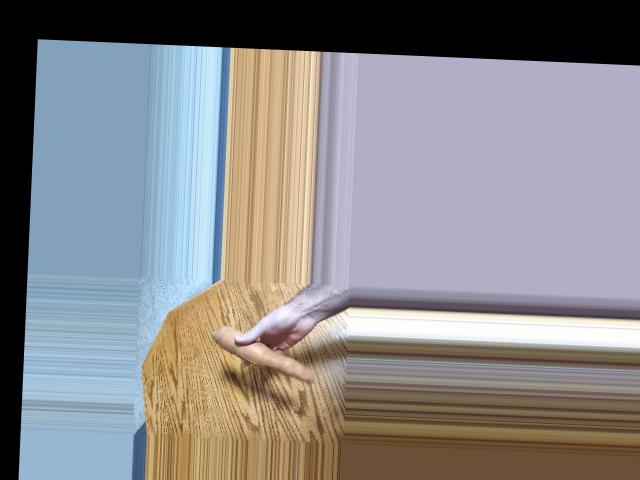sweet_potato: (206, 337, 317, 376)
